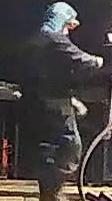vest: (23, 34, 80, 125)
